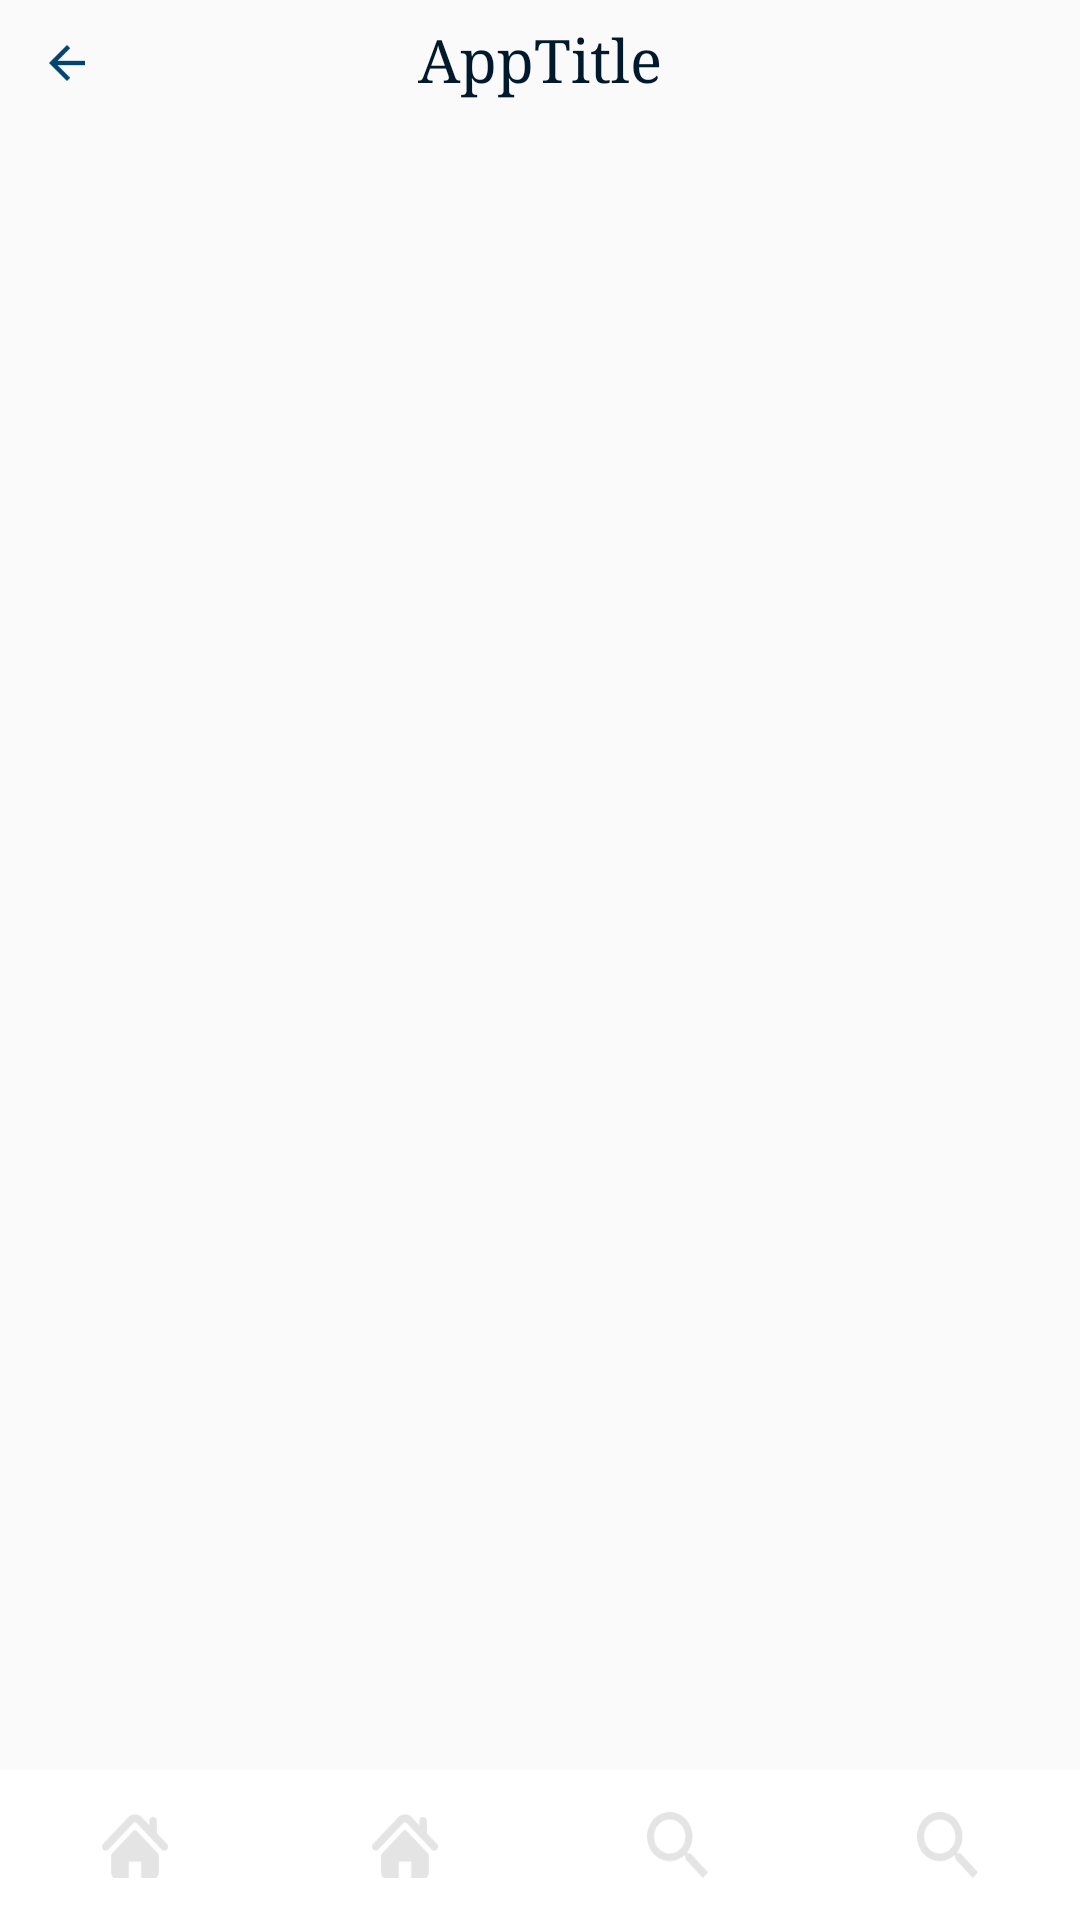

Screen size 1080w x 1920h. Icon name, then its box in pixels as detection(x1, y1, x2, y2):
back: detection(49, 45, 85, 81)
slc chb btab home: detection(102, 1815, 168, 1878), detection(372, 1815, 438, 1878)
slc chb btab search: detection(647, 1812, 707, 1877), detection(917, 1812, 977, 1877)
